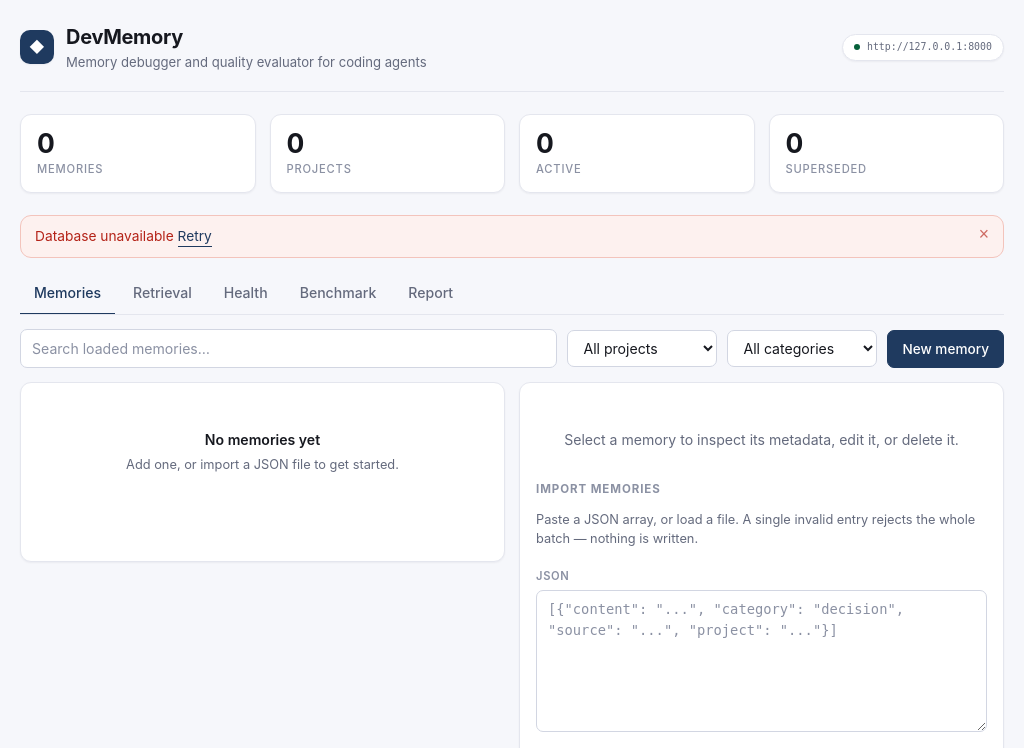
it: loading, empty and error states › shows the API's message when loading fails, and retries
The width and height of the screenshot is (1024, 748).
Expected: the message shows "Database unavailable", [35, 228, 174, 244]
Click the button "Retry" at x=195, y=236, box [178, 226, 212, 247]
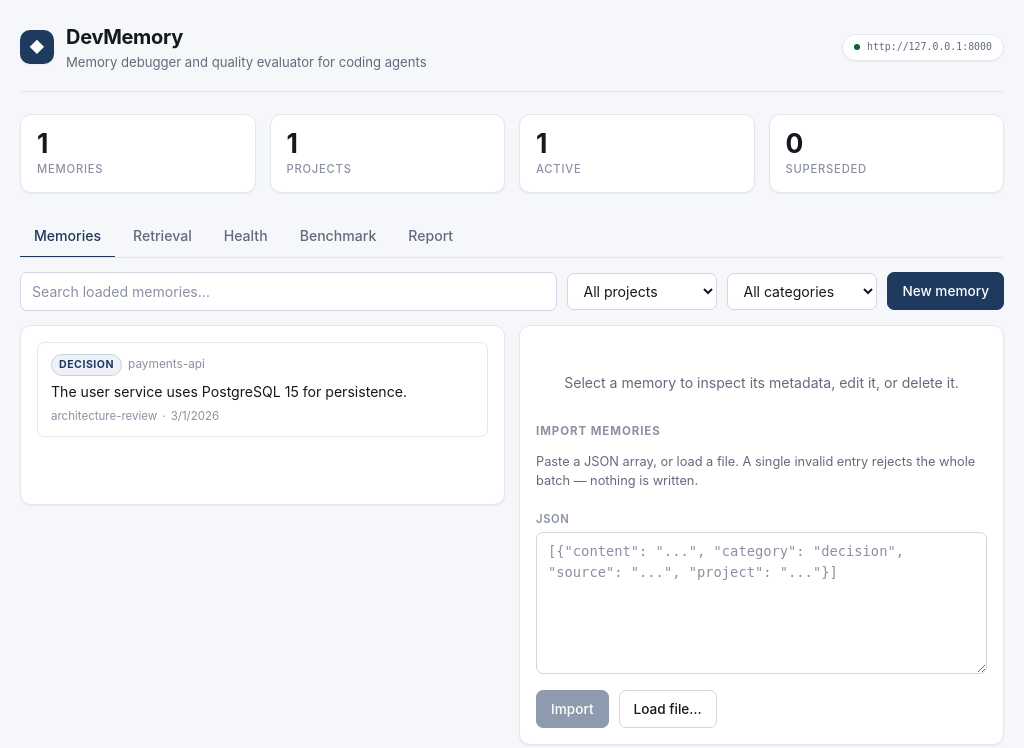
Now the text "The user service uses PostgreSQL 15 for persistence." is shown, box [51, 383, 407, 400]
